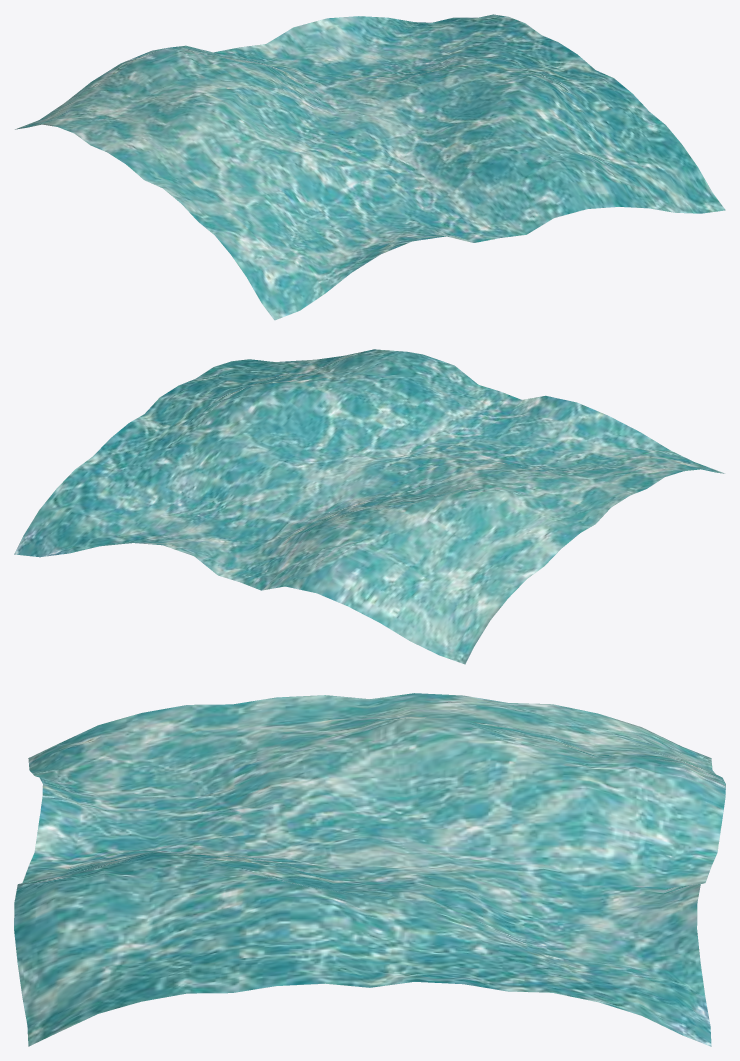
Rendered from water_000094.obj.
3 renders of one model, top to bottom at view 1: azimuth 30°, elevation 25°; view 2: azimuth 150°, elevation 25°; view 3: azimuth 270°, elevation 25°, orthographic. The views are drawn at different scales.
Visible parts, largest first — view 1: Plan.003_Plan.001; view 2: Plan.003_Plan.001; view 3: Plan.003_Plan.001.
Boxes of the visible parts, box(x1,y1,x2,y2) form: Plan.003_Plan.001: box(15, 14, 725, 320); Plan.003_Plan.001: box(14, 349, 724, 664); Plan.003_Plan.001: box(14, 693, 725, 1046).
Size of the model in its own units: 60864 by 8906 by 62887.
Materials: 1 (1 with a texture image).
